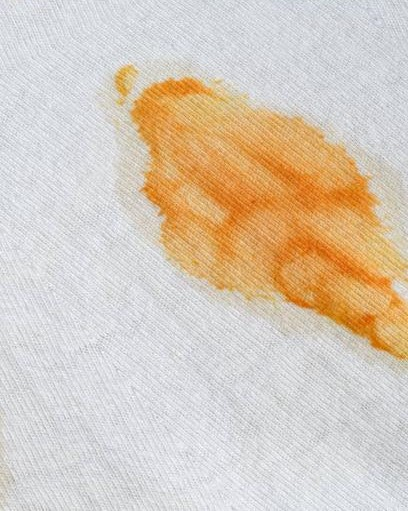stain: (101, 54, 408, 361)
